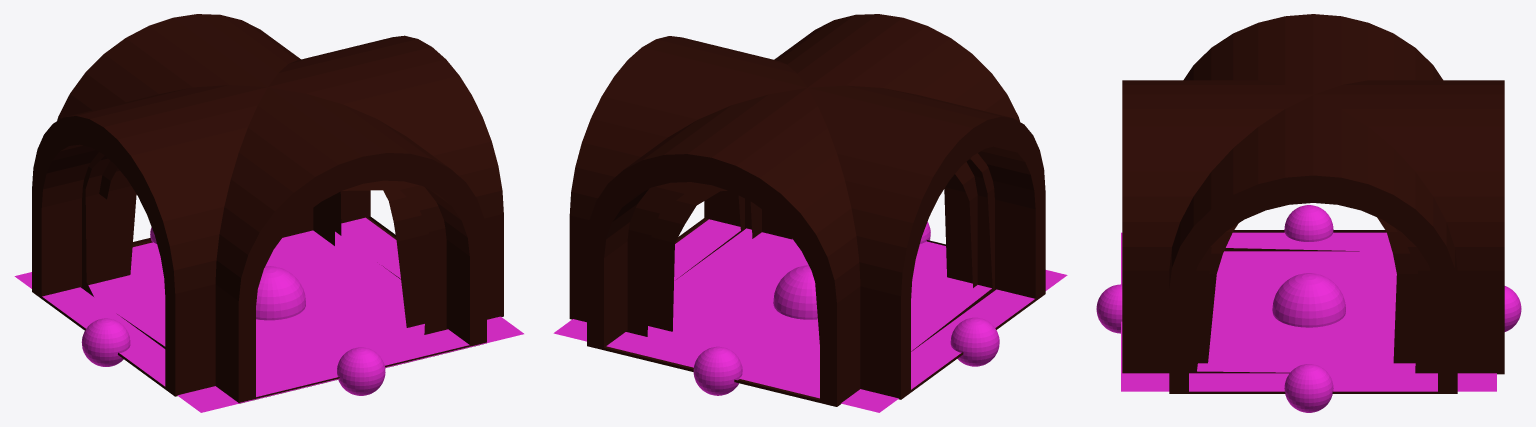
File: tunnel_4.glb
The picture shows the model from 3 angles, left to right: view 1: azimuth 30°, elevation 25°; view 2: azimuth 150°, elevation 25°; view 3: azimuth 270°, elevation 25°; orthographic projection.
Visible parts, largest first — view 1: Cylinder.004, Cylinder.001, %P%Footprint, %P%Center, %P%AnchorIn, %P%AnchorIn.003; view 2: Cylinder.004, Cylinder.001, %P%Footprint, %P%AnchorIn.001, %P%Center, %P%AnchorIn.003; view 3: Cylinder.001, Cylinder.004, %P%Footprint, %P%Center, %P%AnchorIn.002, %P%AnchorIn.003, %P%AnchorIn, %P%AnchorIn.001.
Boxes of the visible parts, x1=… form: Cylinder.004: x1=32, y1=35, x2=503, y2=396; Cylinder.001: x1=57, y1=14, x2=486, y2=403; %P%Footprint: x1=14, y1=217, x2=523, y2=412; %P%Center: x1=256, y1=266, x2=305, y2=320; %P%AnchorIn: x1=337, y1=347, x2=385, y2=395; %P%AnchorIn.003: x1=81, y1=318, x2=130, y2=366; Cylinder.004: x1=569, y1=36, x2=1045, y2=399; Cylinder.001: x1=587, y1=14, x2=1019, y2=406; %P%Footprint: x1=553, y1=219, x2=1067, y2=412; %P%AnchorIn.001: x1=693, y1=346, x2=742, y2=395; %P%Center: x1=773, y1=265, x2=817, y2=319; %P%AnchorIn.003: x1=950, y1=317, x2=999, y2=366; Cylinder.001: x1=1122, y1=80, x2=1504, y2=374; Cylinder.004: x1=1169, y1=14, x2=1457, y2=393; %P%Footprint: x1=1121, y1=232, x2=1496, y2=391; %P%Center: x1=1272, y1=273, x2=1345, y2=327; %P%AnchorIn.002: x1=1284, y1=364, x2=1333, y2=412; %P%AnchorIn.003: x1=1284, y1=205, x2=1333, y2=241; %P%AnchorIn: x1=1096, y1=284, x2=1122, y2=333; %P%AnchorIn.001: x1=1504, y1=286, x2=1521, y2=331.
Bounding box in the file's own units: 2.26 × 1.46 × 2.26.
